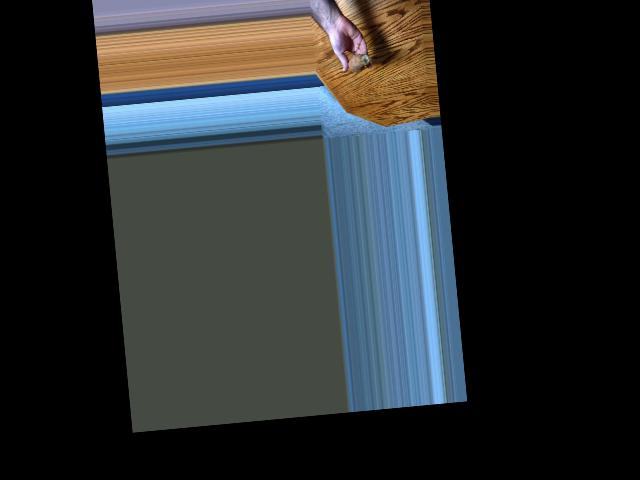sweet_potato: (344, 53, 371, 80)
